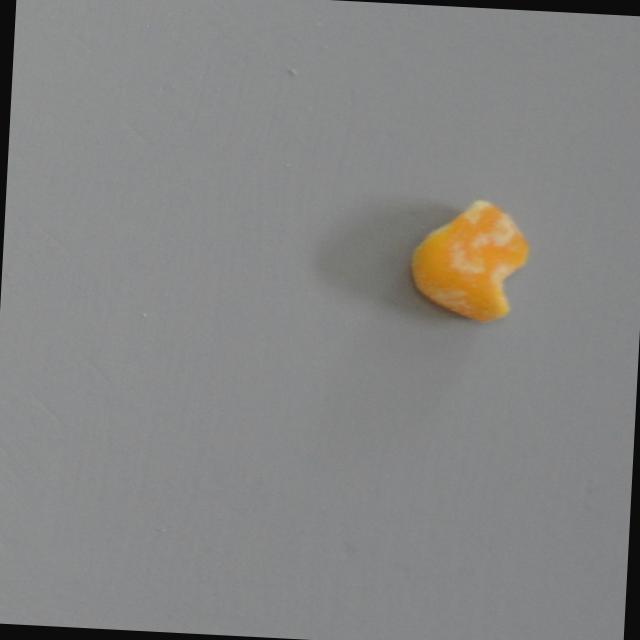pelicula: (408, 196, 531, 324)
